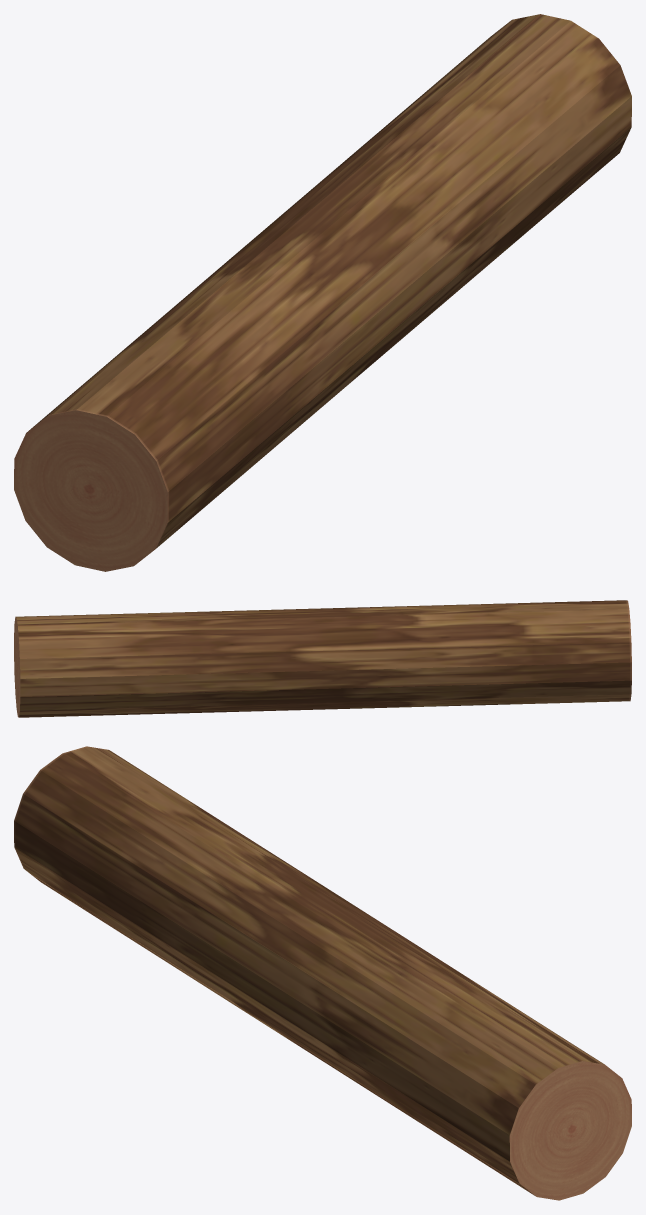
The model's file is MKU_Log_fin.fbx.
3 renders of one model, top to bottom at view 1: azimuth 30°, elevation 25°; view 2: azimuth 150°, elevation 25°; view 3: azimuth 270°, elevation 25°, orthographic. The views are drawn at different scales.
Parts seen in each view (by area): view 1: Cylinder; view 2: Cylinder; view 3: Cylinder.
Part boxes in pixels (x1,y1,x2,y2): Cylinder: (14, 14, 631, 571); Cylinder: (14, 600, 631, 717); Cylinder: (14, 746, 631, 1200).
Bounding box in the file's own units: 1105 × 196 × 827.
